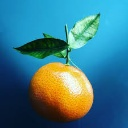orange: (25, 52, 93, 123)
